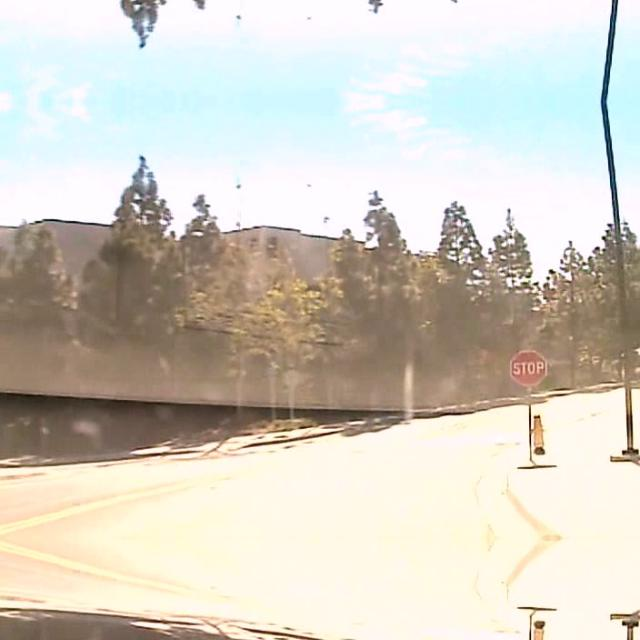stop: (508, 348, 548, 384)
